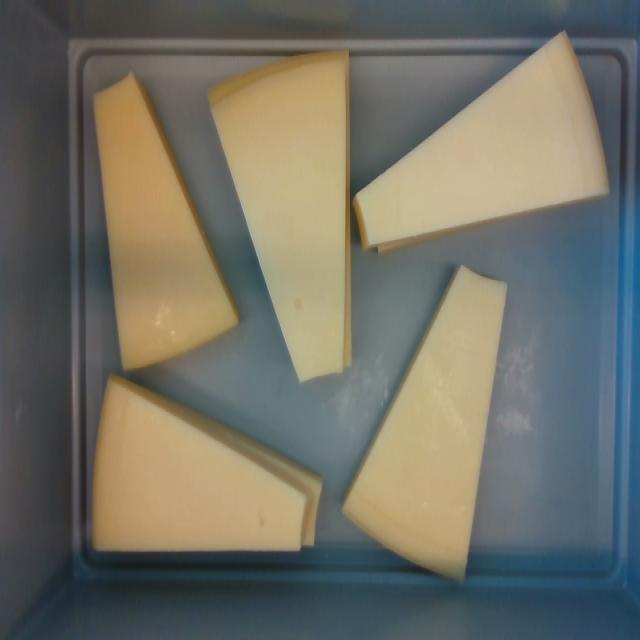cheese: (355, 32, 608, 243), (343, 267, 505, 577), (211, 61, 346, 383), (95, 73, 238, 368), (93, 376, 307, 551)
